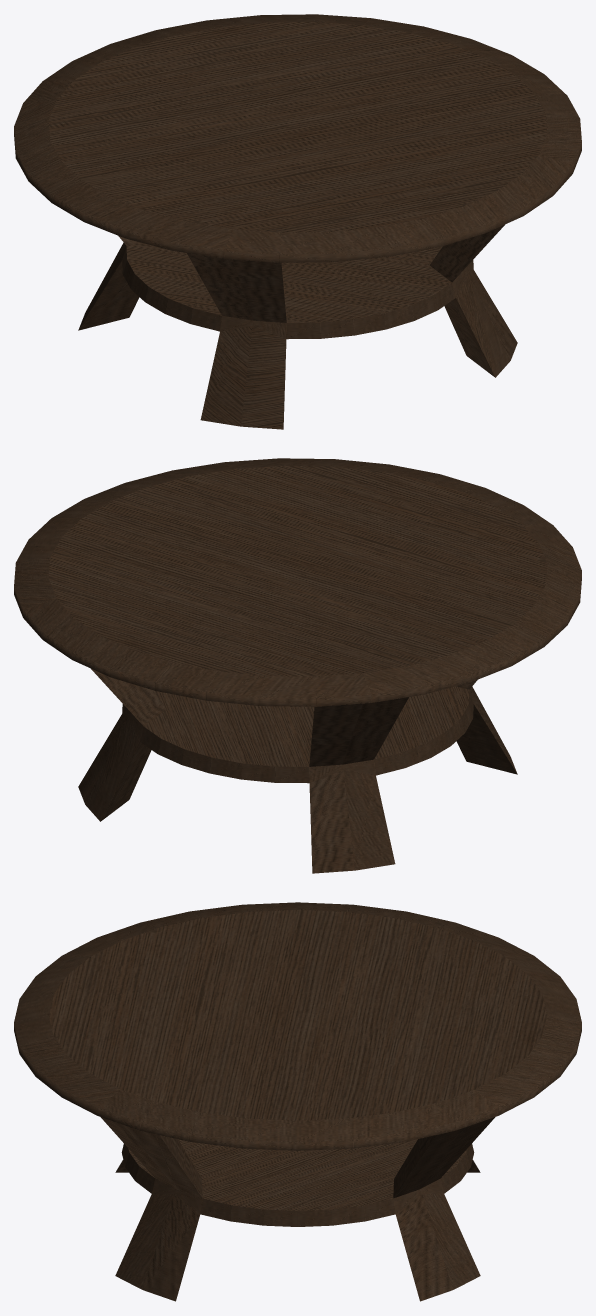
The model's file is Big Table.fbx.
The picture shows the model from 3 angles, top to bottom: view 1: azimuth 30°, elevation 25°; view 2: azimuth 150°, elevation 25°; view 3: azimuth 270°, elevation 25°; orthographic projection.
Visible parts, largest first — view 1: Cylinder; view 2: Cylinder; view 3: Cylinder.
Boxes of the visible parts, left/top/right/bottom form: Cylinder: left=14, top=14, right=581, bottom=429; Cylinder: left=14, top=458, right=581, bottom=873; Cylinder: left=14, top=902, right=581, bottom=1301.
Size of the model in its own units: 646 by 262 by 646.
